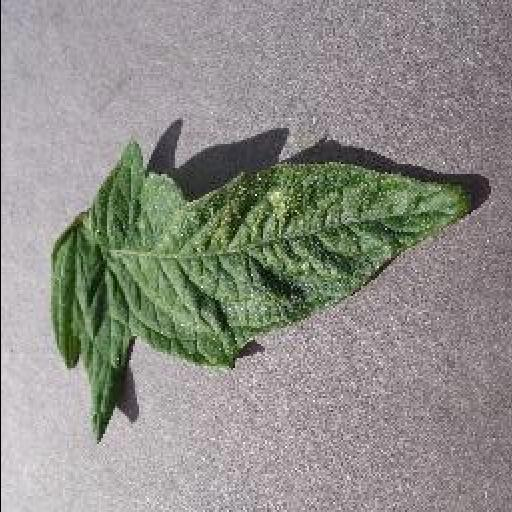disease_tomato: (46, 140, 474, 442)
